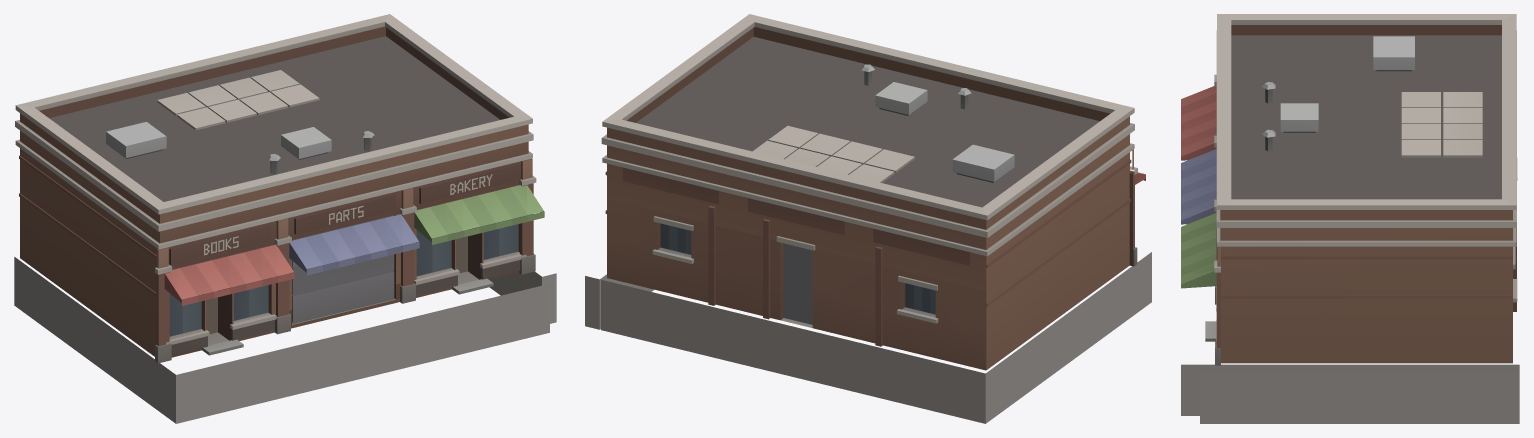
File: shops.lod1.glb
3 renders of one model, left to right at view 1: azimuth 30°, elevation 25°; view 2: azimuth 150°, elevation 25°; view 3: azimuth 270°, elevation 25°, orthographic. The views are drawn at different scales.
Bounding box in the file's own units: 12.53 × 6.22 × 8.97.
